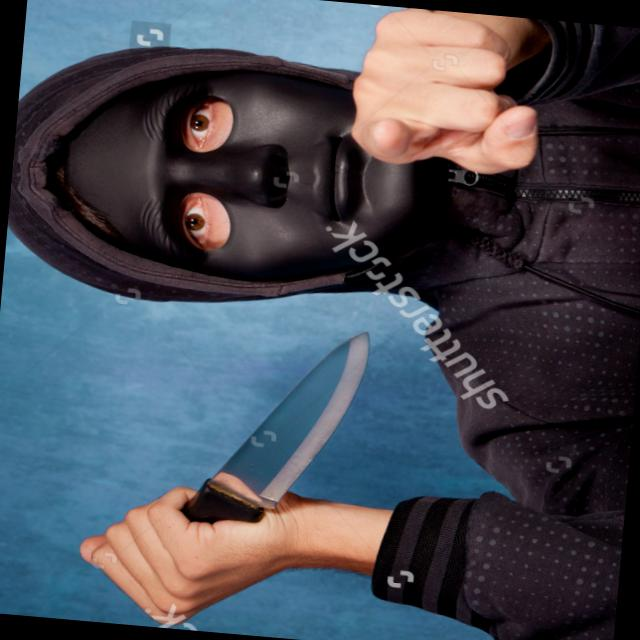knife: (69, 298, 388, 598)
